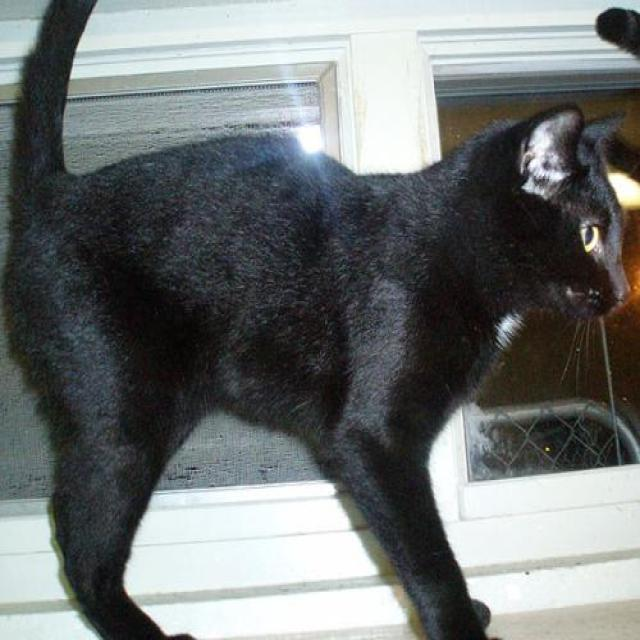Cat: (1, 0, 631, 639)
